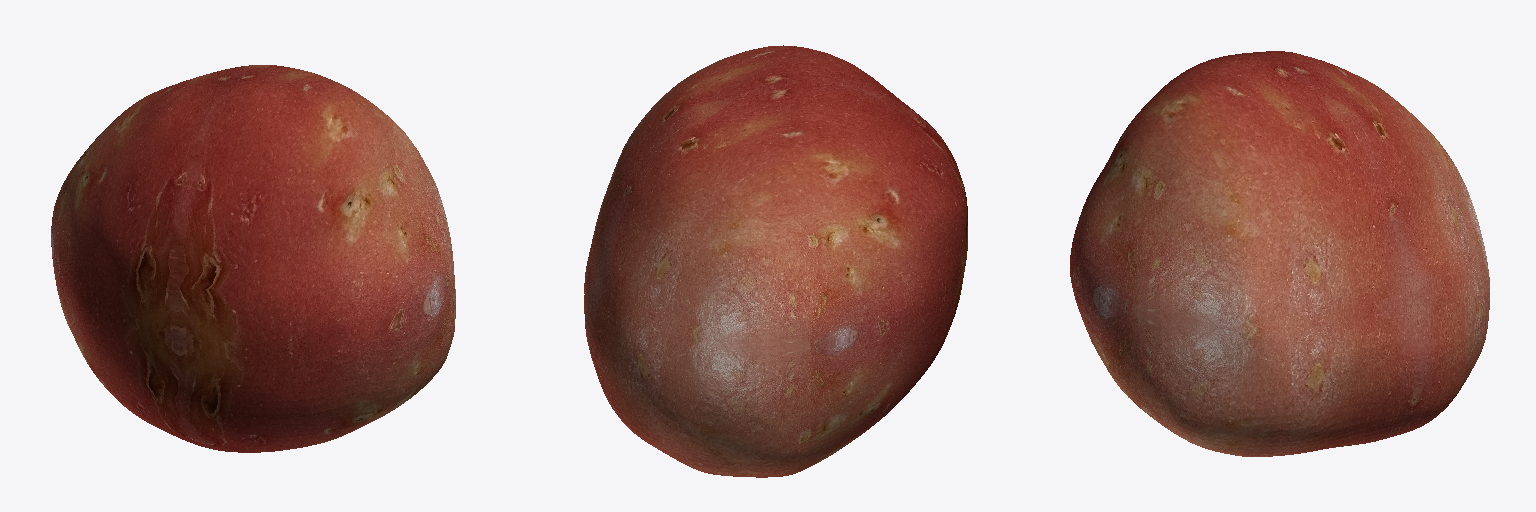
3 views of the same model, side by side, from view 1: azimuth 30°, elevation 25°; view 2: azimuth 150°, elevation 25°; view 3: azimuth 270°, elevation 25° (orthographic).
Visible parts, largest first — view 1: Asteroid; view 2: Asteroid; view 3: Asteroid.
Boxes of the visible parts, x1=… form: Asteroid: x1=51, y1=65, x2=455, y2=452; Asteroid: x1=584, y1=45, x2=967, y2=477; Asteroid: x1=1070, y1=51, x2=1489, y2=456.
Bounding box in the file's own units: 4.39 × 4.57 × 4.71.
Materials: 1 (1 with a texture image).